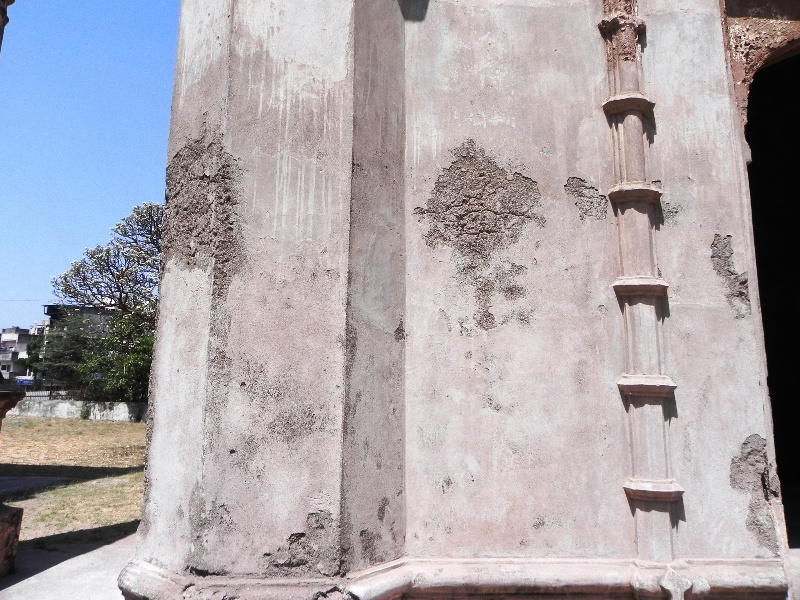Spalling: (421, 148, 543, 311), (166, 131, 242, 285), (261, 514, 354, 579), (727, 431, 775, 540), (708, 233, 751, 303), (564, 170, 609, 222)
